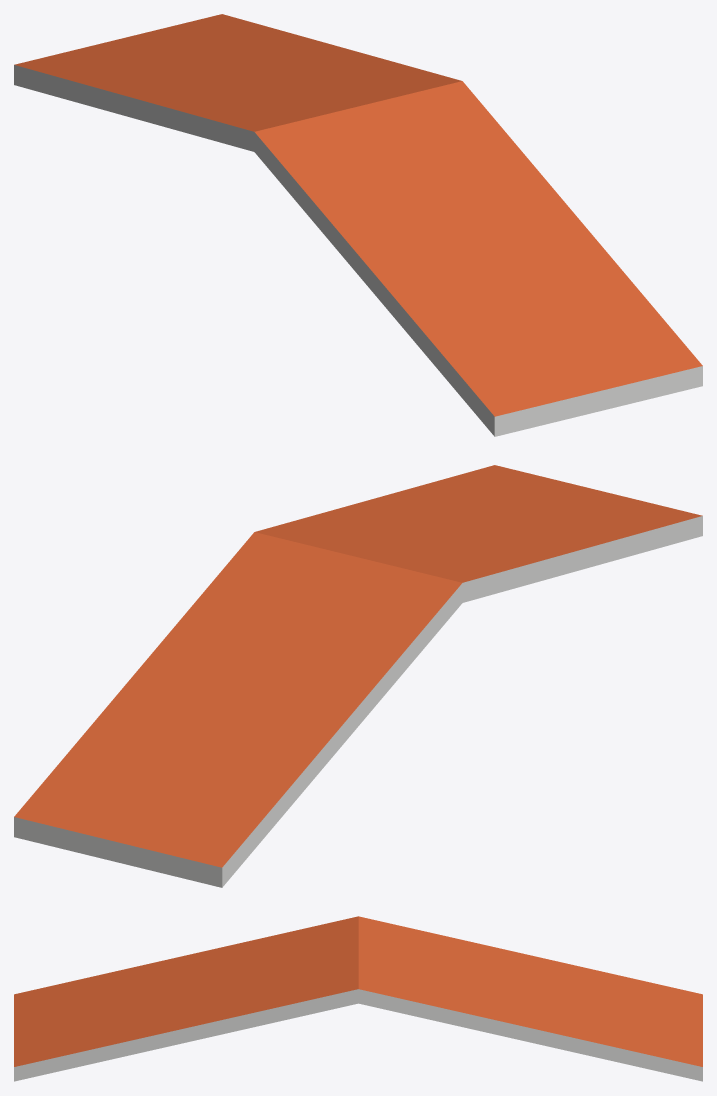
The model's file is telhado_duas_aguas_v4_i25_1m.glb.
3 renders of one model, top to bottom at view 1: azimuth 30°, elevation 25°; view 2: azimuth 150°, elevation 25°; view 3: azimuth 270°, elevation 25°, orthographic. The views are drawn at different scales.
Visible parts, largest first — view 1: telhado_duas_aguas_v4_i25_1m; view 2: telhado_duas_aguas_v4_i25_1m; view 3: telhado_duas_aguas_v4_i25_1m.
Part boxes in pixels (bbox=[...]): telhado_duas_aguas_v4_i25_1m: bbox=[14, 14, 702, 436]; telhado_duas_aguas_v4_i25_1m: bbox=[14, 465, 702, 887]; telhado_duas_aguas_v4_i25_1m: bbox=[14, 916, 702, 1081].
Size of the model in its own units: 1 by 0.5928 by 4.
